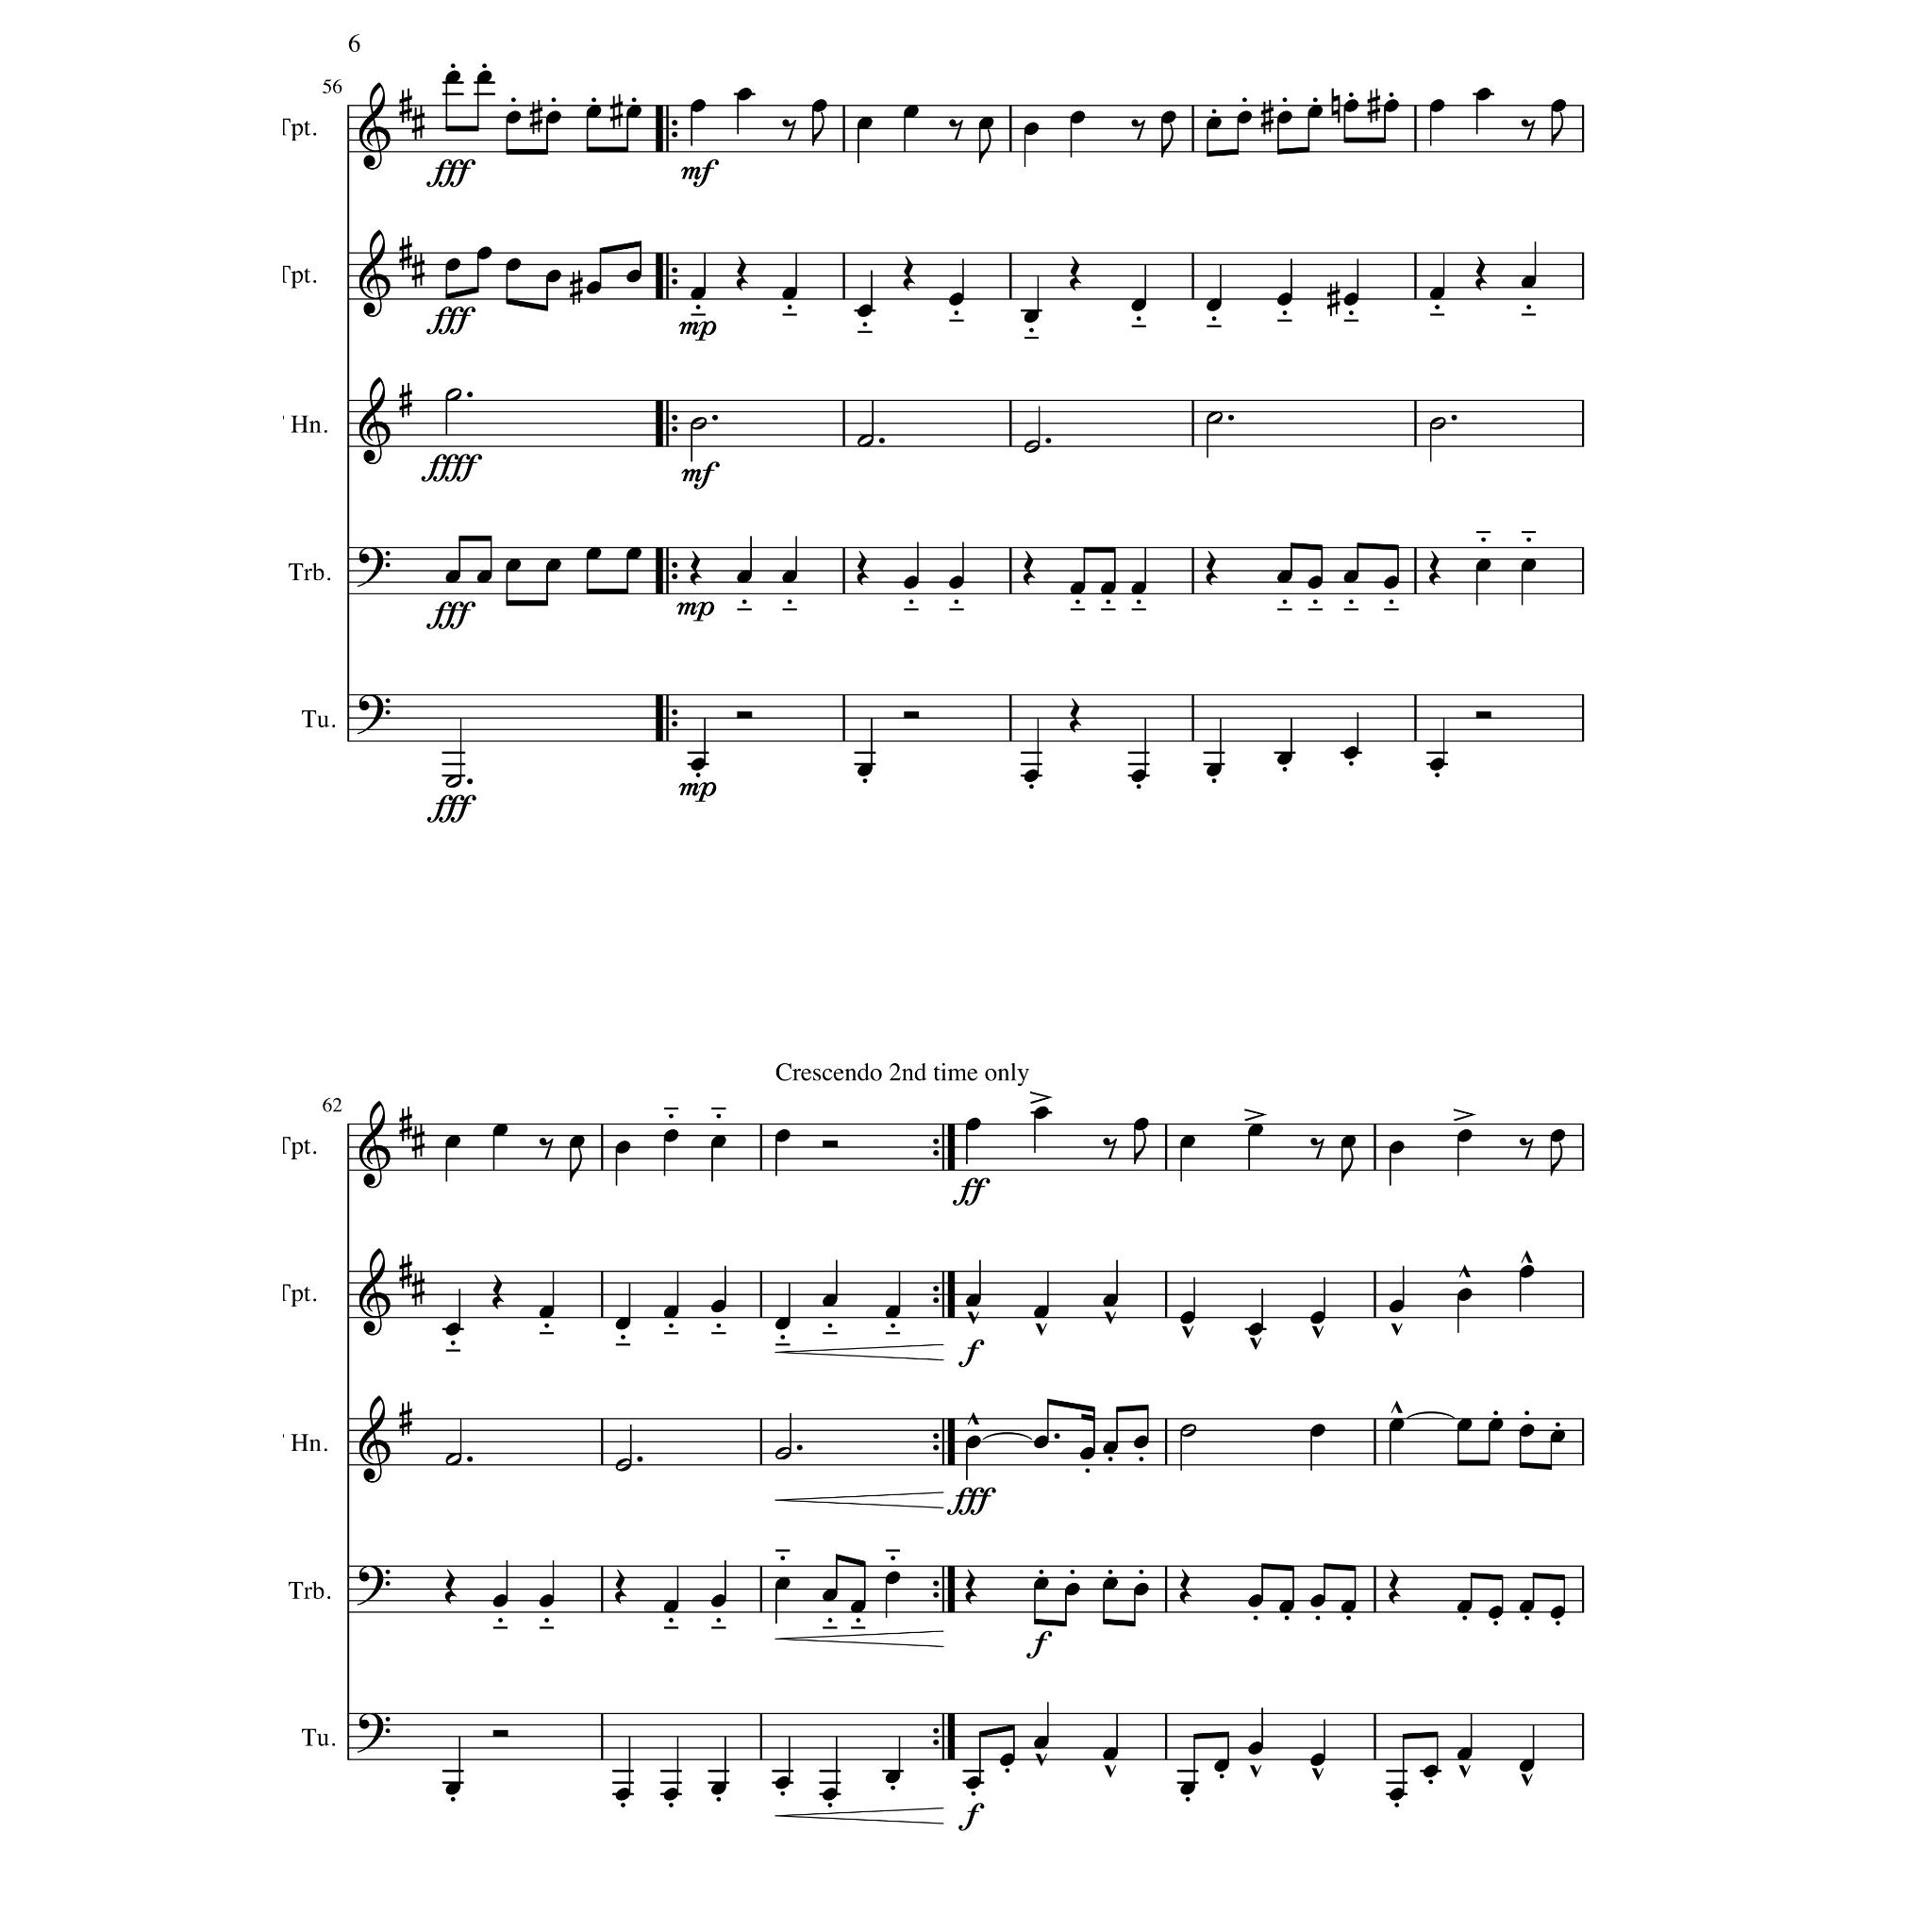fClef: (357, 695, 391, 736), (357, 547, 391, 587), (357, 1566, 391, 1606), (357, 1713, 391, 1753)
flag8thDown: (1552, 111, 1564, 147), (978, 129, 991, 165), (812, 111, 824, 147), (1162, 124, 1175, 157), (1341, 1148, 1353, 1182), (1134, 1131, 1146, 1164), (1550, 1143, 1562, 1177), (570, 1148, 582, 1182)
gClef: (359, 81, 391, 172), (359, 1247, 391, 1338), (359, 230, 391, 318), (359, 377, 391, 465), (359, 1100, 391, 1189), (359, 1396, 391, 1484)
noteheadBlack: (773, 1316, 791, 1330), (773, 1576, 791, 1591), (773, 1129, 791, 1143), (1207, 117, 1223, 131), (1207, 763, 1223, 777), (1277, 292, 1293, 306), (1131, 770, 1146, 784), (1307, 104, 1323, 119), (1307, 575, 1323, 589), (1343, 292, 1359, 306), (1382, 575, 1398, 589), (1430, 287, 1445, 301), (586, 104, 602, 119), (586, 281, 602, 295), (586, 547, 602, 561), (506, 258, 522, 272), (545, 269, 561, 283), (690, 287, 706, 301), (626, 104, 642, 119), (626, 269, 642, 283), (626, 547, 642, 561), (444, 258, 460, 272), (904, 104, 920, 119), (856, 763, 872, 777), (978, 117, 994, 131), (1023, 122, 1039, 136), (1023, 310, 1039, 324), (1023, 770, 1039, 784), (904, 575, 920, 589), (948, 292, 964, 306), (948, 575, 964, 589), (856, 117, 872, 131), (782, 287, 798, 301), (856, 304, 872, 318), (1247, 1741, 1263, 1755), (1247, 1594, 1263, 1608), (1247, 1123, 1263, 1138), (1341, 1134, 1357, 1148), (1341, 1599, 1357, 1614), (1279, 1599, 1295, 1614), (1309, 1311, 1325, 1325), (1309, 1594, 1325, 1608), (1309, 1752, 1325, 1766), (1102, 1746, 1118, 1760), (1102, 1576, 1118, 1591), (1102, 1293, 1118, 1307), (1102, 1440, 1118, 1454), (1180, 1134, 1196, 1148), (1180, 1311, 1196, 1325), (1180, 1782, 1196, 1796), (1550, 1129, 1566, 1143), (1550, 1430, 1566, 1444), (1550, 1605, 1566, 1619), (1518, 1265, 1534, 1279), (1518, 1599, 1534, 1614), (1389, 1787, 1405, 1801), (1389, 1417, 1405, 1431), (1488, 1417, 1504, 1431), (1488, 1605, 1504, 1619), (1422, 1764, 1438, 1778), (1458, 1129, 1474, 1143), (1458, 1417, 1474, 1431), (1458, 1599, 1474, 1614), (1458, 1746, 1474, 1760), (614, 1787, 630, 1801), (568, 1134, 584, 1148), (614, 1316, 630, 1330), (709, 1134, 725, 1148), (709, 1594, 725, 1608), (709, 1782, 725, 1796), (663, 1129, 679, 1143), (663, 1306, 679, 1320), (663, 1599, 679, 1614), (663, 1787, 679, 1801), (444, 1134, 460, 1148), (444, 1782, 460, 1796), (538, 1306, 554, 1320), (538, 1594, 554, 1608), (492, 1123, 508, 1138), (492, 1594, 508, 1608), (1033, 1736, 1049, 1750), (964, 1293, 980, 1307), (885, 1306, 901, 1320), (1033, 1306, 1049, 1320), (1033, 1106, 1049, 1120), (998, 1752, 1014, 1766), (1033, 1576, 1049, 1591), (849, 1599, 865, 1614), (823, 1293, 839, 1307), (823, 1787, 839, 1801), (1099, 582, 1116, 594), (773, 1776, 791, 1789), (1207, 299, 1223, 311), (1277, 111, 1293, 124), (1277, 571, 1293, 584), (1277, 752, 1293, 764), (1237, 111, 1253, 124), (1069, 111, 1085, 124), (1069, 582, 1085, 594), (1131, 582, 1146, 594), (1161, 111, 1177, 124), (1131, 299, 1146, 311), (1520, 276, 1536, 288), (1520, 559, 1536, 571), (1476, 88, 1491, 101), (1476, 559, 1491, 571), (1550, 99, 1566, 111), (1343, 747, 1359, 759), (1382, 99, 1398, 111), (1343, 99, 1359, 111), (1343, 571, 1359, 584), (1430, 99, 1445, 111), (1430, 759, 1445, 771), (506, 111, 522, 124), (506, 559, 522, 571), (545, 111, 561, 124), (545, 559, 561, 571), (690, 99, 706, 111), (444, 71, 460, 83), (476, 71, 492, 83), (476, 248, 492, 260), (476, 571, 492, 584), (444, 571, 460, 584), (690, 759, 706, 771), (736, 88, 752, 101), (736, 571, 752, 584), (782, 571, 798, 584), (810, 99, 826, 111), (1214, 1759, 1230, 1771), (1247, 1323, 1263, 1336), (1309, 1424, 1325, 1437), (1134, 1118, 1150, 1131), (1063, 1583, 1079, 1596), (1134, 1437, 1150, 1449), (1079, 1447, 1095, 1460), (1134, 1583, 1150, 1596), (1518, 1424, 1534, 1437), (1518, 1759, 1534, 1771), (1389, 1141, 1405, 1154), (1389, 1300, 1405, 1313), (1458, 1288, 1474, 1300), (614, 1141, 630, 1154), (709, 1300, 725, 1313), (444, 1323, 460, 1336), (964, 1776, 980, 1789), (964, 1118, 980, 1131), (964, 1437, 980, 1449), (885, 1571, 901, 1583), (885, 1771, 901, 1783), (1033, 1437, 1049, 1449), (823, 1589, 839, 1601)
noteheadHalf: (1205, 410, 1223, 425), (444, 387, 462, 402), (444, 775, 462, 789), (444, 1453, 462, 1467), (616, 1458, 632, 1472), (856, 435, 874, 448), (1430, 418, 1445, 430), (690, 418, 706, 430), (1024, 441, 1040, 453), (1180, 1424, 1196, 1437), (775, 1447, 791, 1460)
rest8th: (780, 119, 796, 142), (1309, 1138, 1325, 1161), (1518, 1138, 1534, 1161), (538, 1138, 554, 1161), (1131, 119, 1145, 142), (1522, 119, 1536, 142), (948, 119, 962, 142), (1102, 1138, 1116, 1161)
restHalf: (1476, 711, 1491, 718), (904, 711, 920, 718), (736, 711, 752, 718), (492, 1730, 508, 1737), (823, 1141, 839, 1148)
restQuarter: (688, 550, 702, 586), (1069, 255, 1081, 292), (1476, 255, 1488, 292), (736, 255, 748, 292), (492, 1274, 504, 1311), (1207, 550, 1219, 586), (1069, 699, 1081, 734), (856, 550, 869, 586), (1023, 550, 1035, 586), (1180, 1569, 1192, 1605), (1389, 1569, 1401, 1605), (614, 1569, 626, 1605), (444, 1569, 456, 1605), (964, 1569, 977, 1605), (904, 255, 915, 292), (1430, 550, 1440, 586)
